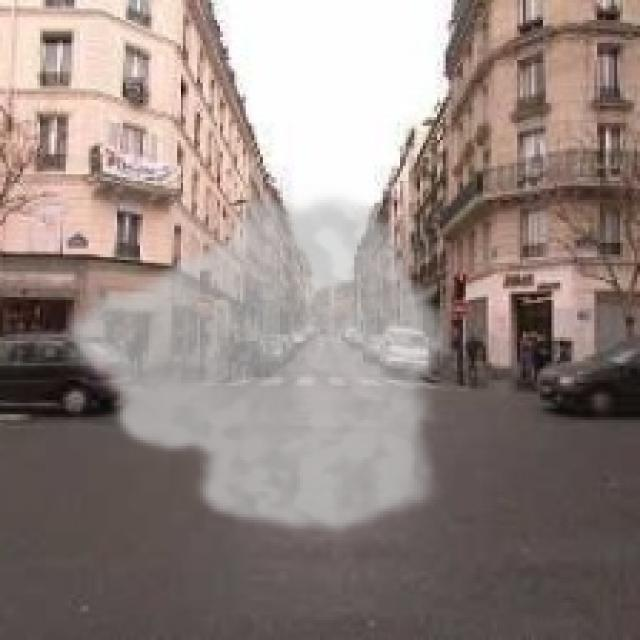smoke: (60, 183, 451, 540)
